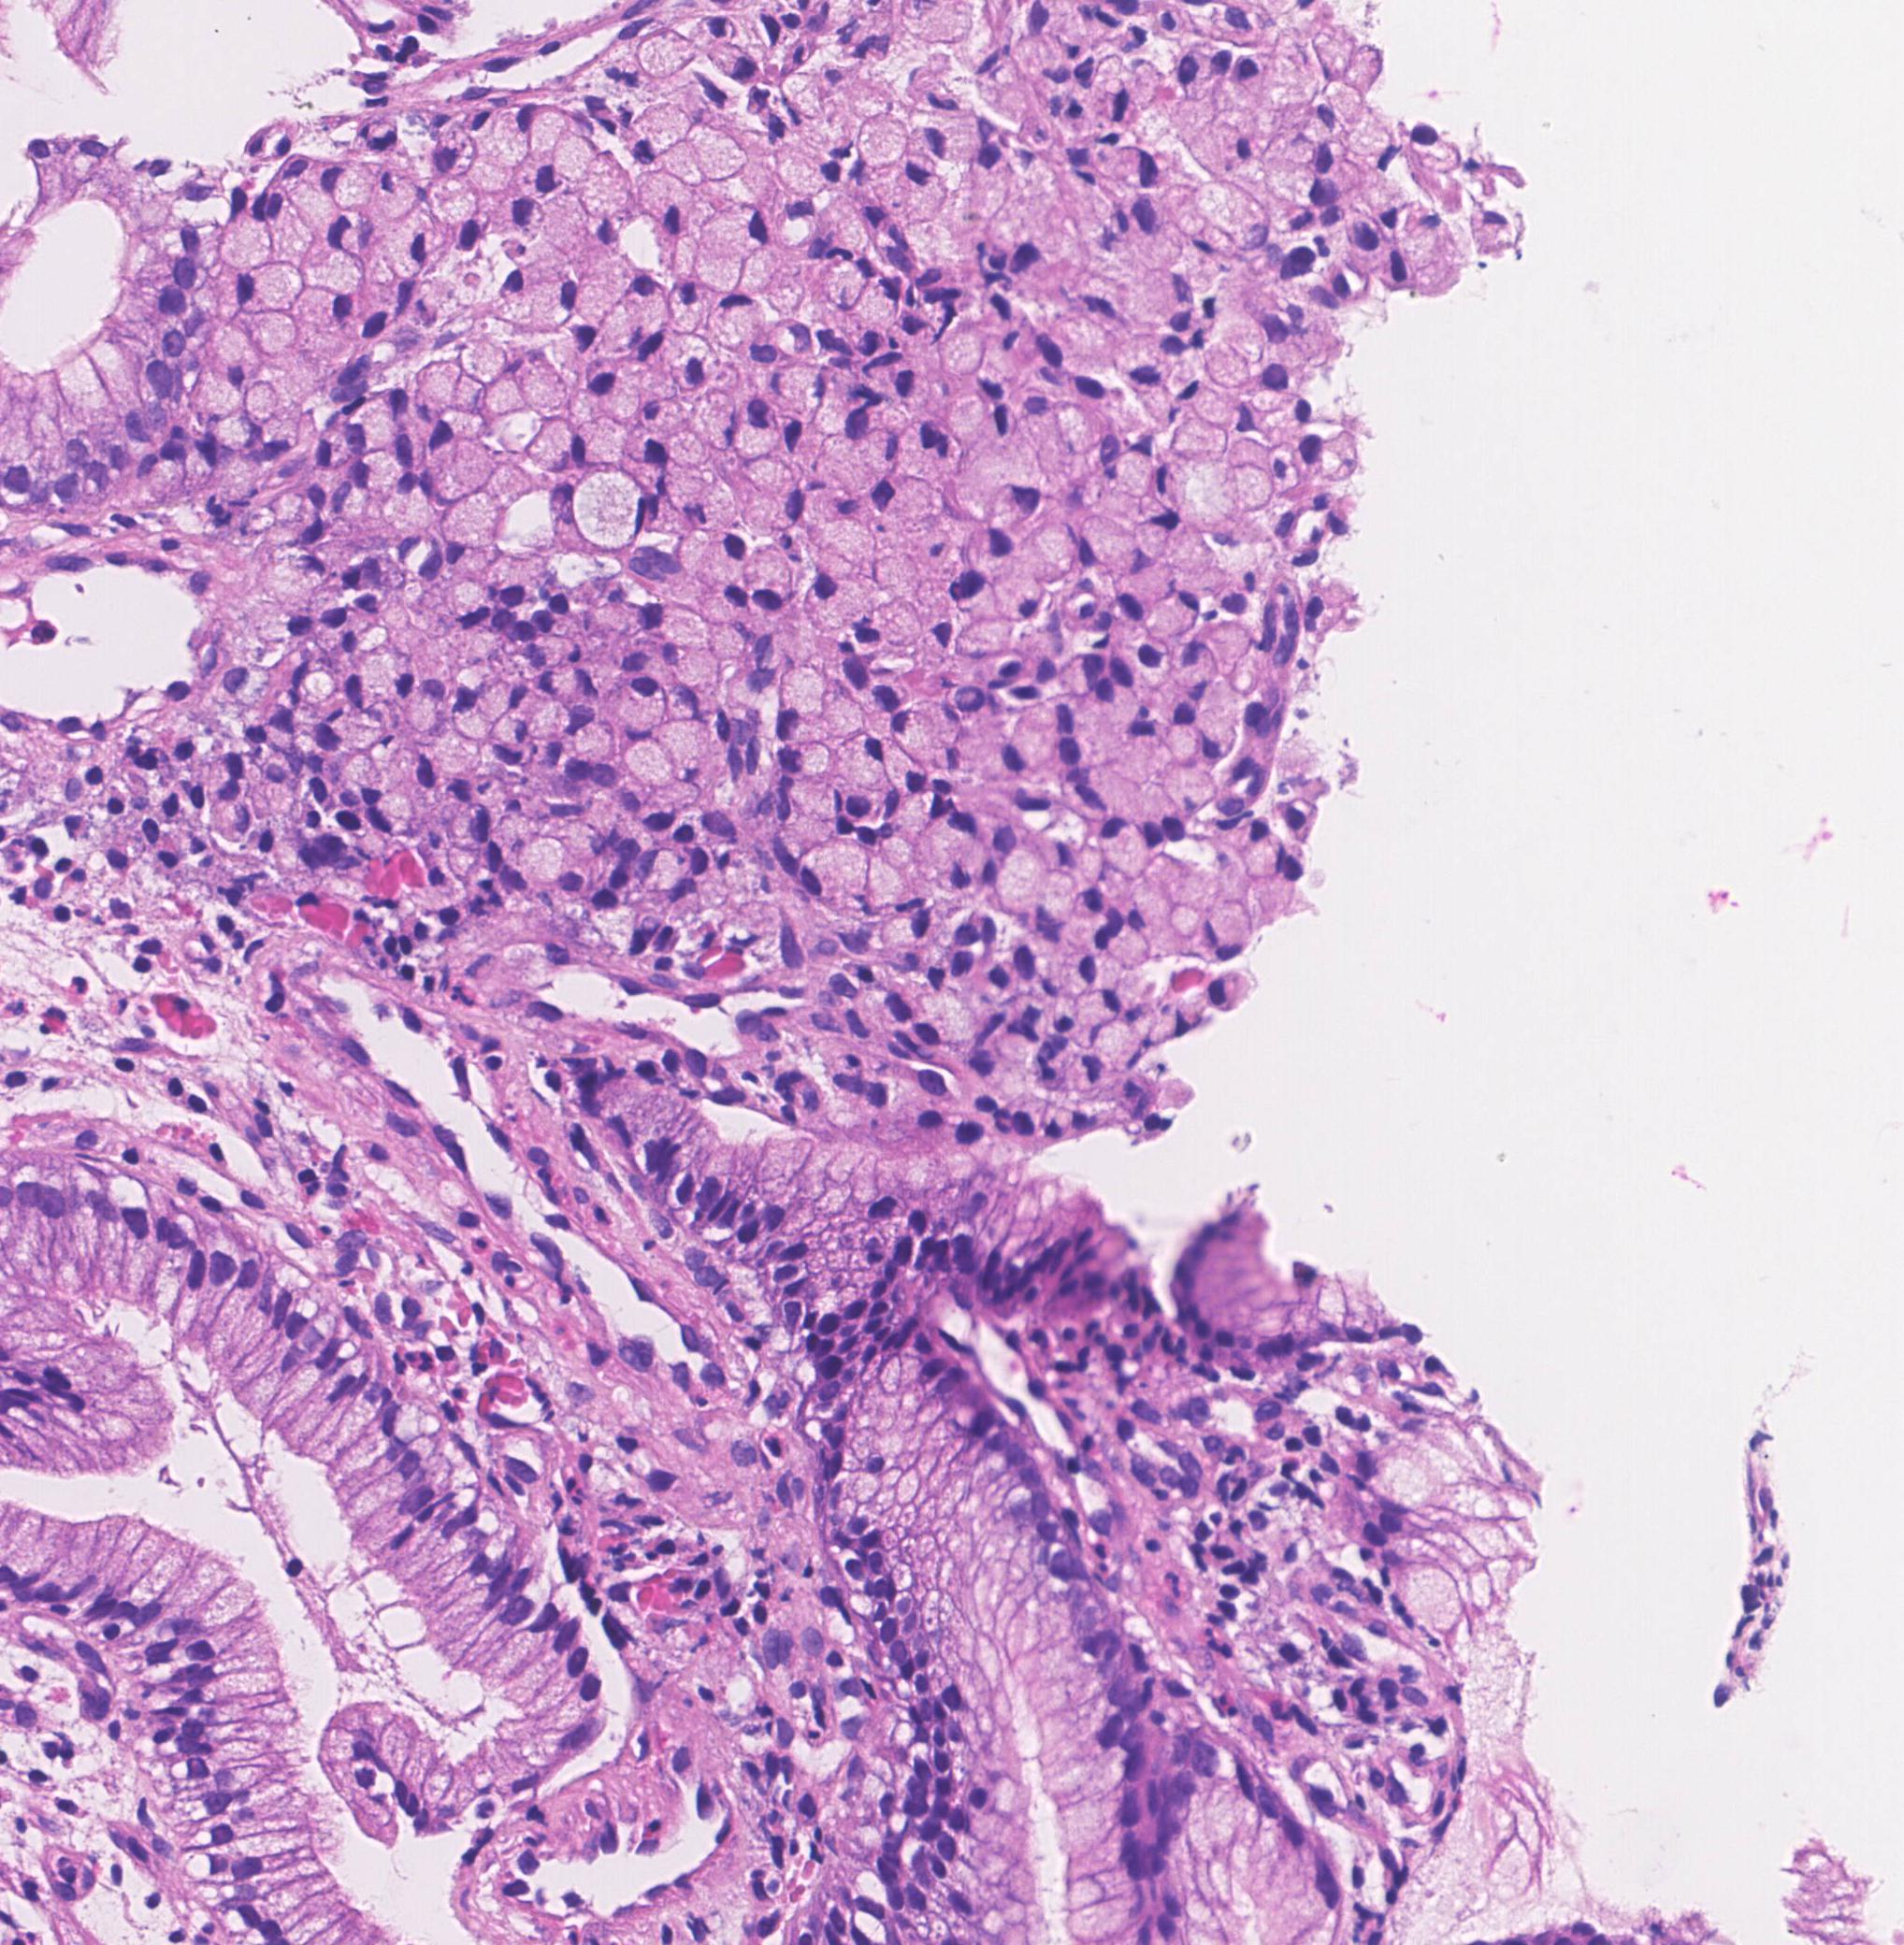ring_cell_cancer: (997, 193, 1071, 268), (1200, 178, 1271, 249), (748, 457, 806, 535), (549, 481, 600, 558), (903, 420, 961, 483), (703, 206, 767, 261), (221, 206, 274, 274), (1004, 708, 1057, 774), (687, 124, 748, 180), (804, 577, 867, 631), (710, 291, 767, 349), (687, 70, 741, 131), (921, 98, 983, 150), (418, 450, 488, 497), (776, 145, 840, 195), (638, 174, 692, 234), (391, 211, 438, 279), (584, 155, 635, 218), (1205, 124, 1262, 178), (513, 354, 570, 408), (1025, 519, 1079, 577), (1247, 300, 1297, 361), (439, 497, 500, 547), (1071, 776, 1135, 823), (814, 202, 868, 258), (1173, 533, 1226, 591), (246, 263, 305, 314), (1079, 200, 1130, 260), (528, 268, 577, 329), (267, 193, 310, 261), (663, 727, 715, 783), (867, 479, 936, 521), (893, 157, 943, 214), (746, 549, 793, 610), (1118, 544, 1170, 598), (921, 993, 975, 1046), (640, 28, 696, 78), (976, 343, 1027, 399), (997, 852, 1041, 917), (1341, 213, 1388, 272), (1102, 816, 1149, 875), (303, 249, 366, 293), (195, 267, 244, 322), (1053, 403, 1102, 458), (349, 394, 396, 451), (917, 816, 976, 861), (856, 117, 907, 169), (521, 98, 570, 152), (1409, 122, 1463, 171), (1078, 281, 1126, 335), (900, 1098, 954, 1147), (819, 1044, 868, 1098), (833, 734, 887, 783), (574, 418, 628, 467), (964, 526, 1013, 580), (486, 556, 541, 605), (893, 315, 942, 369), (1119, 336, 1166, 392), (1276, 30, 1322, 87), (1271, 166, 1329, 211), (633, 106, 692, 150), (600, 577, 643, 636), (211, 336, 260, 389), (286, 160, 328, 221), (1078, 514, 1126, 565), (703, 530, 751, 580), (844, 399, 894, 448), (588, 373, 640, 420), (521, 840, 575, 885), (624, 275, 670, 329), (645, 607, 706, 647), (955, 615, 1011, 659), (415, 361, 457, 418), (982, 277, 1023, 335), (1004, 936, 1051, 986), (432, 732, 483, 779), (534, 776, 584, 823), (781, 666, 828, 716), (296, 289, 356, 329), (434, 180, 479, 232), (1149, 593, 1201, 638), (1123, 722, 1168, 774), (671, 336, 717, 389), (1010, 148, 1053, 202), (624, 744, 678, 788), (528, 418, 572, 472), (825, 681, 867, 737), (1182, 380, 1231, 427), (731, 662, 778, 711), (600, 59, 649, 106), (1105, 918, 1151, 969), (994, 577, 1044, 622), (370, 270, 422, 314), (1175, 418, 1227, 462), (893, 708, 936, 760), (973, 141, 1011, 200), (818, 488, 877, 526), (504, 943, 558, 985), (429, 413, 485, 453), (830, 844, 877, 891), (884, 974, 933, 1020), (370, 791, 418, 837), (312, 594, 357, 643), (1208, 340, 1252, 390), (1166, 767, 1217, 810), (968, 1049, 1018, 1093), (546, 197, 589, 247), (323, 167, 375, 209), (1151, 786, 1193, 838), (1018, 390, 1060, 443), (830, 258, 872, 310), (1306, 580, 1344, 636), (1226, 467, 1271, 514), (1139, 509, 1186, 554), (1231, 547, 1278, 593), (1062, 648, 1107, 695), (574, 718, 619, 765), (521, 150, 565, 199), (251, 819, 295, 868), (1112, 146, 1163, 188), (1282, 737, 1323, 788), (457, 340, 507, 382), (919, 701, 961, 751), (870, 554, 921, 596), (924, 596, 961, 654), (1203, 905, 1255, 945), (800, 852, 840, 905), (738, 406, 778, 458), (772, 615, 813, 668), (657, 647, 717, 681), (1269, 188, 1315, 234), (877, 600, 922, 645), (1022, 33, 1065, 80), (445, 542, 492, 586), (214, 457, 262, 500), (375, 173, 424, 214), (1175, 640, 1217, 688), (277, 556, 326, 598), (389, 474, 431, 523), (560, 324, 602, 373), (1132, 636, 1172, 687), (921, 861, 971, 901), (696, 397, 736, 448), (1001, 783, 1062, 816), (174, 227, 227, 265), (626, 674, 664, 727), (710, 47, 764, 84), (1118, 441, 1154, 495), (609, 303, 645, 357), (1069, 952, 1114, 995), (1196, 711, 1238, 758), (364, 657, 413, 697), (997, 483, 1037, 532), (1109, 645, 1144, 701), (1180, 669, 1231, 708), (779, 418, 818, 469), (248, 315, 300, 352), (1248, 361, 1306, 394), (431, 134, 474, 178), (989, 66, 1032, 110), (1212, 619, 1255, 662), (556, 132, 598, 178), (886, 746, 928, 791), (837, 786, 882, 828), (417, 866, 462, 908), (307, 718, 352, 760), (847, 315, 893, 357), (795, 783, 842, 823), (945, 329, 985, 376), (765, 268, 806, 315), (774, 744, 828, 779), (213, 413, 262, 451), (1350, 44, 1388, 92), (1102, 77, 1140, 125), (343, 701, 392, 739), (455, 688, 493, 737), (354, 451, 403, 490), (467, 152, 511, 193), (502, 193, 544, 237), (961, 31, 1004, 73), (1149, 268, 1193, 310), (781, 706, 825, 748), (342, 762, 385, 803), (690, 488, 732, 532), (263, 404, 303, 450), (1067, 171, 1112, 211), (1097, 680, 1137, 725), (1243, 838, 1289, 878), (982, 816, 1022, 861), (715, 844, 755, 889), (274, 596, 314, 641), (915, 526, 955, 572), (764, 368, 809, 408), (1323, 24, 1357, 78), (847, 82, 896, 119), (410, 678, 446, 727), (891, 363, 928, 411), (673, 281, 710, 329), (1072, 1051, 1114, 1093), (636, 849, 678, 891), (1191, 225, 1234, 265), (1231, 439, 1275, 479), (218, 662, 262, 702), (326, 220, 373, 256), (654, 779, 701, 816), (821, 354, 858, 401), (610, 641, 664, 673), (199, 378, 241, 418), (1208, 971, 1250, 1011), (1132, 889, 1172, 931), (849, 164, 891, 204), (452, 591, 495, 629), (629, 436, 668, 479), (1130, 192, 1166, 237), (1153, 464, 1189, 509), (643, 493, 680, 539), (1037, 877, 1069, 929), (638, 399, 685, 434), (638, 333, 673, 380), (361, 558, 410, 591), (1325, 80, 1365, 120), (1275, 96, 1315, 136), (1058, 131, 1098, 171), (1001, 1020, 1041, 1060), (1282, 127, 1320, 169), (474, 678, 513, 720), (621, 706, 663, 744), (713, 580, 751, 622), (863, 430, 901, 472), (1050, 735, 1091, 774), (1282, 798, 1318, 842), (511, 995, 554, 1032), (500, 110, 532, 160), (78, 749, 113, 795), (1165, 729, 1205, 767), (1081, 988, 1121, 1027), (1051, 697, 1091, 735), (617, 828, 657, 866), (312, 429, 350, 469), (244, 385, 286, 422), (1240, 399, 1276, 441), (155, 837, 192, 878), (774, 321, 816, 357), (903, 131, 947, 166), (1130, 810, 1165, 854), (560, 824, 603, 859), (582, 218, 626, 253), (153, 450, 187, 495), (486, 741, 532, 774), (500, 267, 534, 312), (1269, 446, 1301, 493), (1144, 852, 1182, 891), (1227, 322, 1264, 363), (1011, 995, 1051, 1032), (1050, 837, 1090, 873), (978, 962, 1015, 1002), (218, 802, 258, 838), (371, 735, 408, 776), (455, 213, 490, 254), (148, 786, 190, 821), (410, 749, 439, 798), (187, 441, 220, 485), (1161, 683, 1194, 727), (1175, 45, 1207, 91), (269, 708, 300, 753), (1292, 427, 1329, 465), (666, 685, 703, 723), (474, 113, 507, 155), (204, 749, 246, 783), (361, 125, 405, 157), (539, 634, 582, 666), (459, 803, 490, 847), (1132, 58, 1161, 103), (502, 802, 532, 847), (1165, 903, 1201, 939), (330, 481, 366, 518), (1283, 392, 1318, 430), (1114, 594, 1153, 629), (1088, 1020, 1128, 1053), (530, 704, 570, 737), (391, 627, 431, 661), (861, 17, 893, 59), (443, 776, 474, 817), (530, 610, 577, 638), (425, 99, 462, 134), (1126, 1004, 1163, 1039), (563, 671, 600, 706), (711, 624, 748, 659), (821, 56, 860, 89), (628, 465, 666, 498), (103, 786, 134, 826), (1022, 108, 1051, 150), (987, 401, 1017, 443), (262, 753, 293, 791), (181, 821, 213, 859), (696, 19, 738, 47), (1165, 303, 1207, 331), (884, 917, 926, 945), (908, 64, 940, 101), (1236, 56, 1266, 94), (1214, 814, 1252, 844), (903, 796, 936, 830), (507, 685, 541, 718), (1156, 9, 1198, 35), (1268, 505, 1299, 540), (1245, 817, 1276, 852), (207, 777, 249, 803), (671, 812, 703, 847), (1065, 99, 1095, 136), (870, 683, 910, 709), (1074, 882, 1105, 915), (199, 854, 230, 887), (1112, 28, 1151, 54), (617, 784, 649, 814), (171, 737, 201, 769), (356, 833, 389, 861), (537, 669, 574, 694), (495, 718, 527, 746), (1285, 849, 1311, 880), (354, 596, 385, 622), (1074, 54, 1098, 87), (1215, 936, 1252, 957), (1065, 35, 1090, 58)
